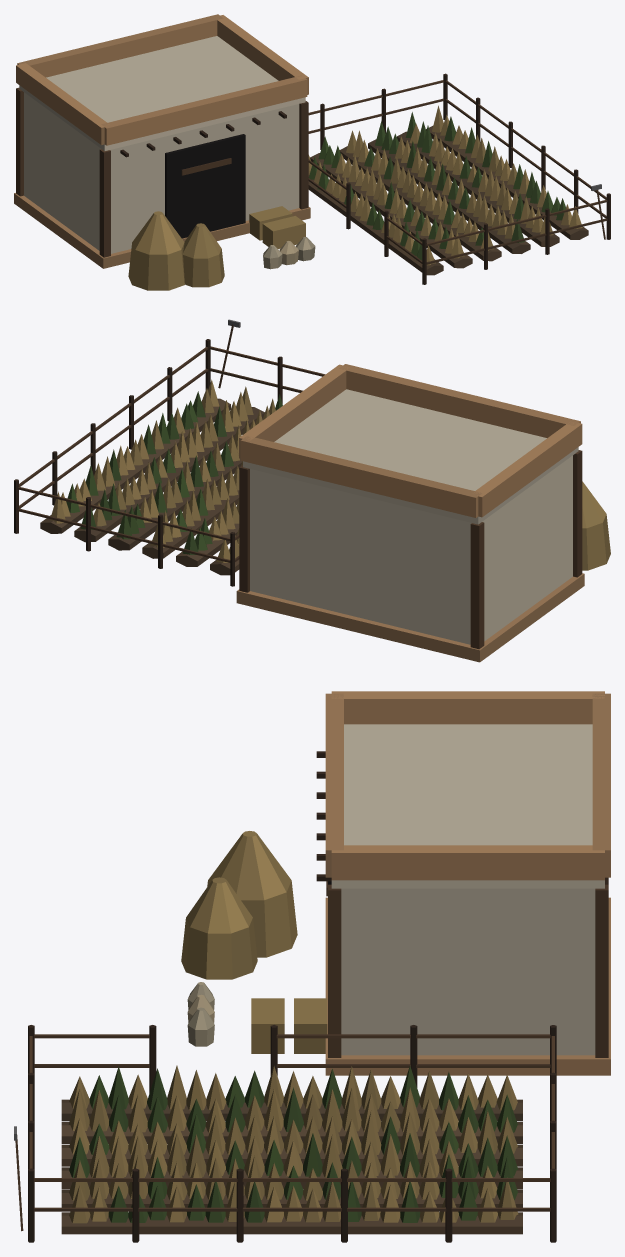
The model's file is walk_sunborn_farm.glb.
3 renders of one model, top to bottom at view 1: azimuth 30°, elevation 25°; view 2: azimuth 150°, elevation 25°; view 3: azimuth 270°, elevation 25°, orthographic. The views are drawn at different scales.
Parts seen in each view (by area): view 1: walk_sunborn_farm, walk_sunborn_farm_roof; view 2: walk_sunborn_farm, walk_sunborn_farm_roof; view 3: walk_sunborn_farm, walk_sunborn_farm_roof.
Boxes of the visible parts, x1,y1,x2,y2 form: walk_sunborn_farm: (14,73,610,290); walk_sunborn_farm_roof: (16,14,308,150); walk_sunborn_farm: (14,319,610,662); walk_sunborn_farm_roof: (239,364,582,524); walk_sunborn_farm: (14,751,610,1242); walk_sunborn_farm_roof: (325,691,610,888).
Size of what is drawn, in the model's own units: 12.6 by 4.24 by 9.84.
Materials: 2 (2 with a texture image).
